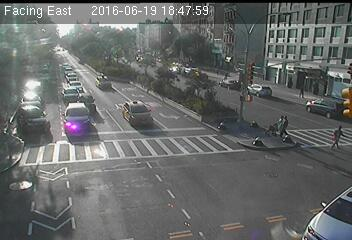pos: (329, 122, 350, 150), (281, 116, 292, 131), (297, 85, 308, 100), (276, 113, 285, 125)
